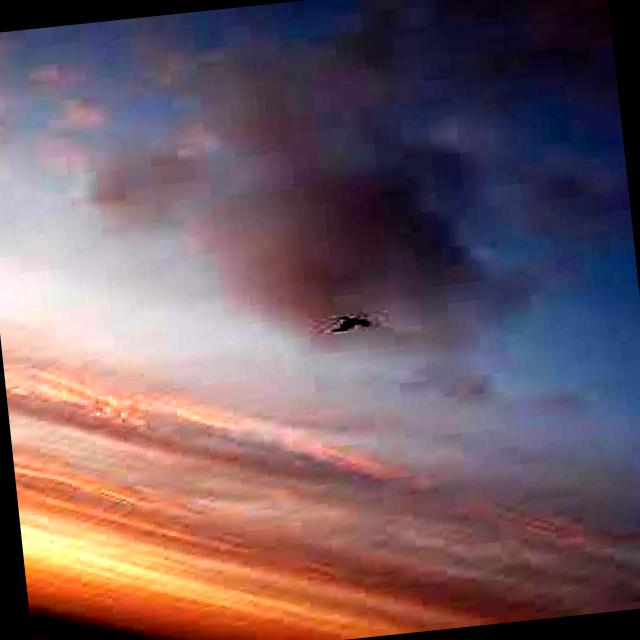bird: (321, 306, 382, 338)
